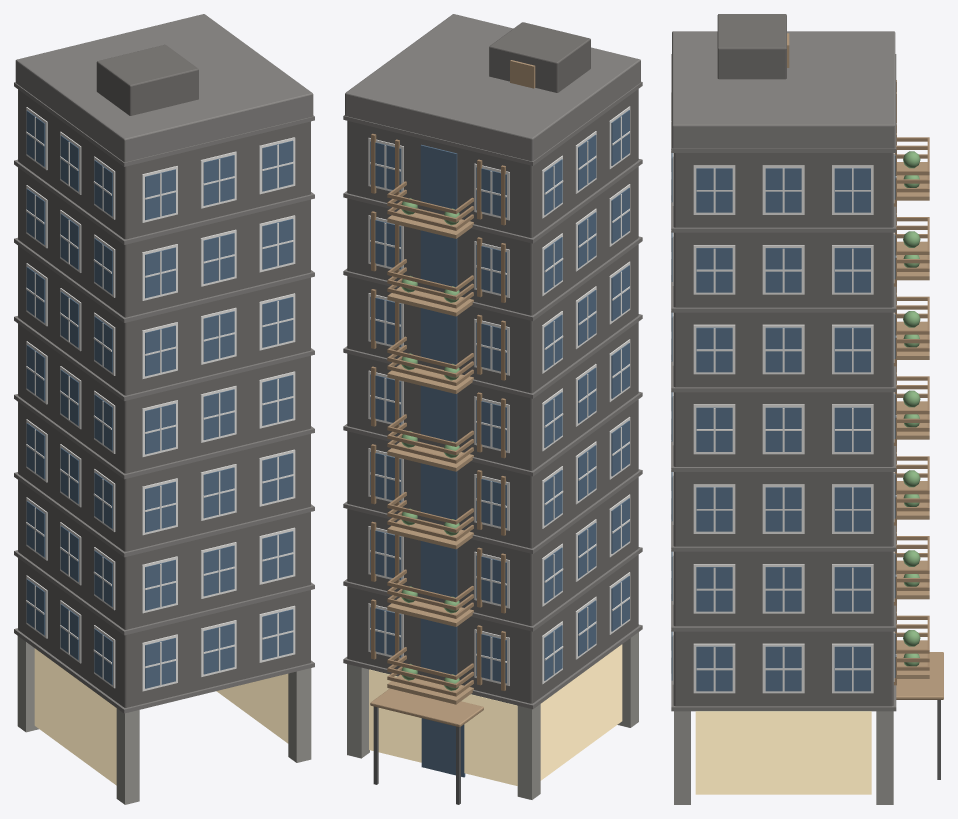
The model's file is menara-4-blender-v1.glb.
3 renders of one model, left to right at view 1: azimuth 30°, elevation 25°; view 2: azimuth 150°, elevation 25°; view 3: azimuth 270°, elevation 25°, orthographic. The views are drawn at different scales.
Parts seen in each view (by area): view 1: tower_body_m, windows_glass, roof, windows_frame, lobby, floor_bands; view 2: tower_body_m, windows_glass, roof, lobby, windows_frame, balcony_doors, floor_bands, balcony_screens, wood_slats, balcony_slabs, balcony_bushes; view 3: tower_body_m, windows_glass, roof, lobby, windows_frame, floor_bands, balcony_screens, balcony_slabs, balcony_bushes, wood_slats.
Part boxes in pixels (bbox=[...]): tower_body_m: bbox=[18, 89, 310, 707]; windows_glass: bbox=[26, 110, 293, 688]; roof: bbox=[15, 14, 313, 162]; windows_frame: bbox=[26, 107, 295, 691]; lobby: bbox=[17, 636, 311, 804]; floor_bands: bbox=[14, 82, 314, 713]; tower_body_m: bbox=[347, 89, 638, 703]; windows_glass: bbox=[370, 110, 629, 683]; roof: bbox=[345, 14, 640, 161]; lobby: bbox=[347, 632, 638, 804]; windows_frame: bbox=[368, 106, 630, 685]; balcony_doors: bbox=[420, 144, 457, 675]; floor_bands: bbox=[343, 81, 642, 709]; balcony_screens: bbox=[387, 181, 473, 696]; wood_slats: bbox=[371, 133, 505, 690]; balcony_slabs: bbox=[387, 208, 473, 704]; balcony_bushes: bbox=[401, 198, 459, 690]; tower_body_m: bbox=[673, 153, 893, 706]; windows_glass: bbox=[671, 153, 895, 691]; roof: bbox=[672, 14, 895, 148]; lobby: bbox=[674, 652, 943, 804]; windows_frame: bbox=[671, 92, 896, 693]; floor_bands: bbox=[671, 54, 896, 711]; balcony_screens: bbox=[897, 137, 929, 670]; balcony_slabs: bbox=[897, 162, 929, 678]; balcony_bushes: bbox=[903, 151, 920, 666]; wood_slats: bbox=[894, 80, 896, 685].
Size of the model in its own units: 7.17 by 25 by 8.69.
